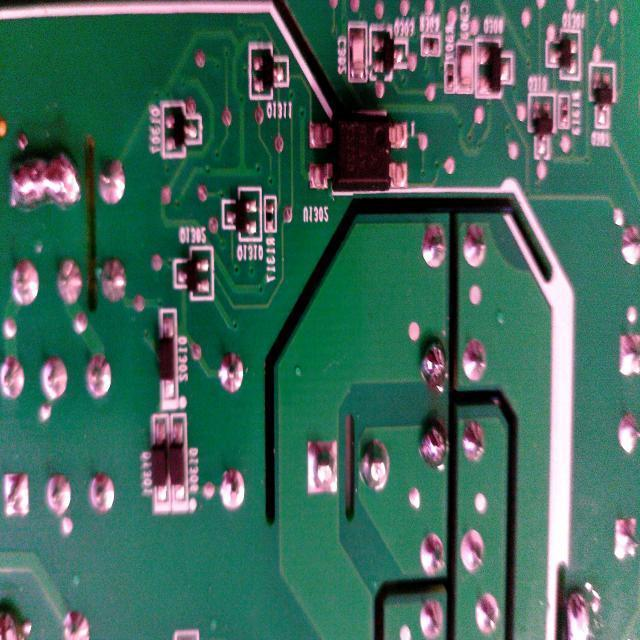Soldering shorted: (7, 142, 82, 214)
